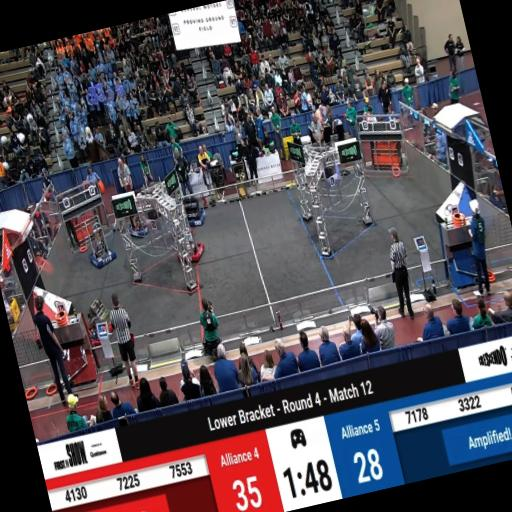robot: (82, 296, 120, 344), (172, 224, 208, 266), (88, 238, 118, 270), (125, 206, 151, 240), (182, 194, 208, 226)
